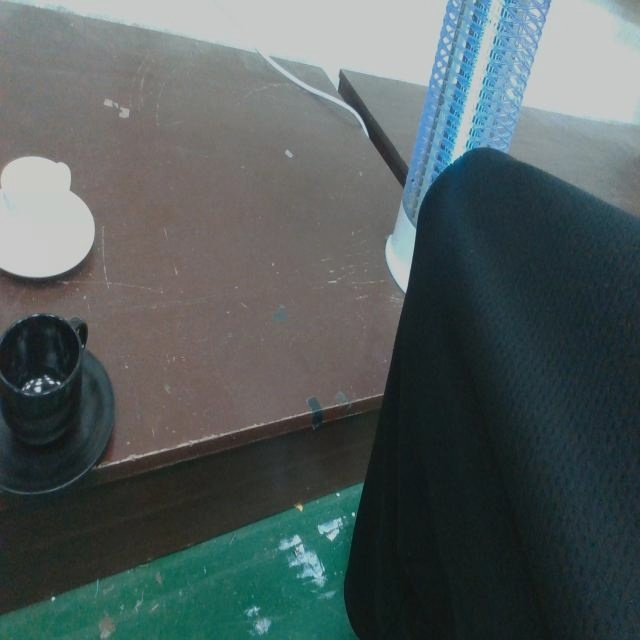black: (0, 306, 118, 503)
white: (0, 152, 99, 286)
